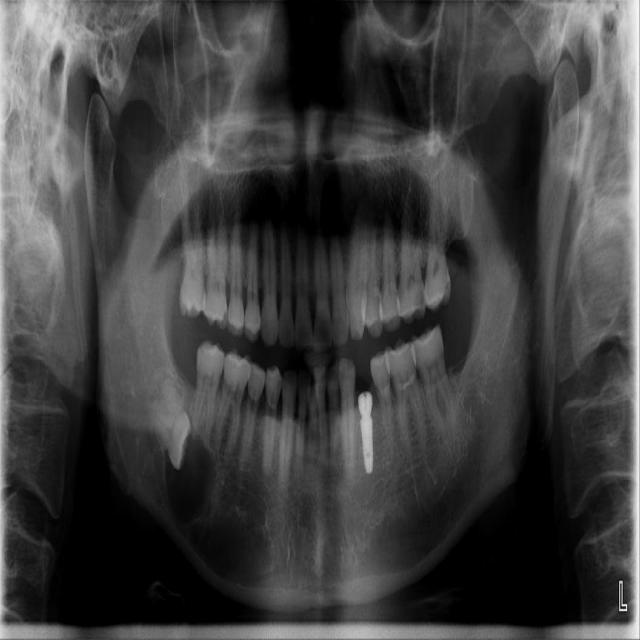Implant: (358, 393, 373, 473)
impacted tooth: (150, 390, 190, 471)
